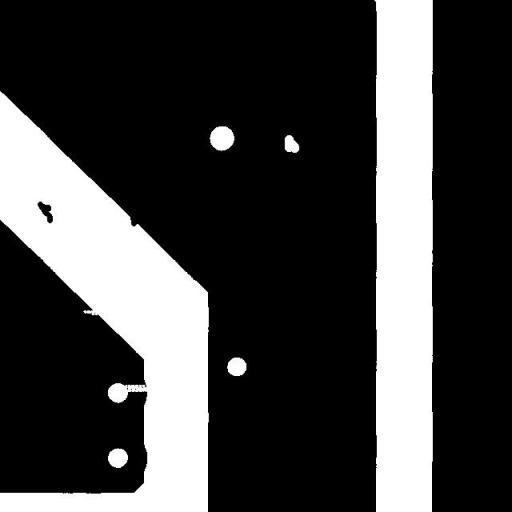copper: (30, 194, 60, 230)
mousebite: (75, 302, 108, 322)
open: (113, 377, 157, 399)
pin-hole: (277, 127, 306, 160)
spur: (122, 207, 145, 234)
